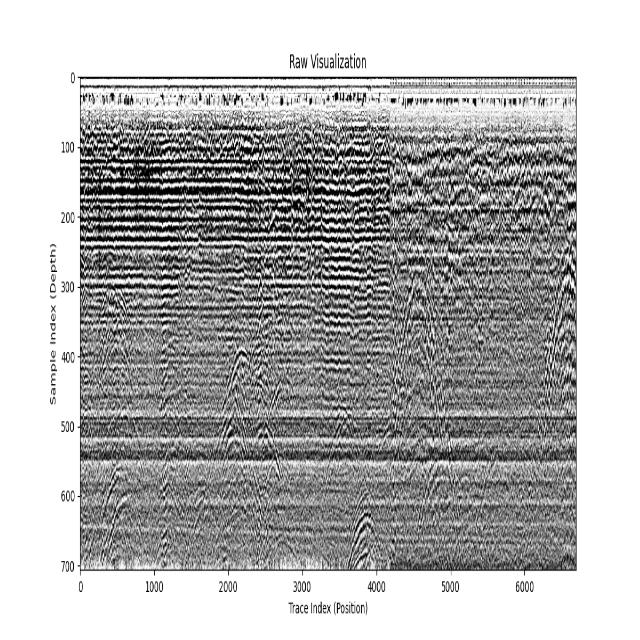anomaly: (383, 266, 456, 464), (203, 346, 285, 492), (538, 235, 576, 450), (158, 275, 184, 573), (90, 450, 149, 576), (94, 287, 140, 441), (415, 440, 465, 570), (343, 479, 386, 573), (188, 491, 226, 564), (252, 529, 302, 568)
